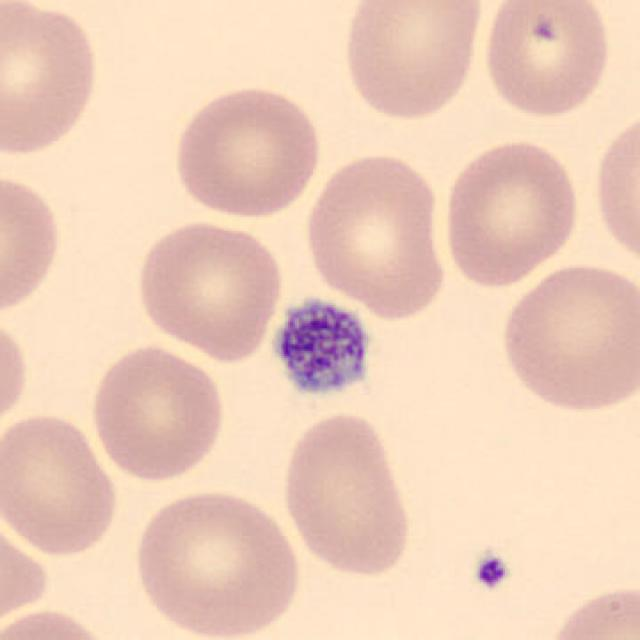Platelets: (265, 292, 377, 403), (469, 547, 514, 594)
RBC: (126, 485, 306, 640), (300, 148, 452, 321), (277, 407, 418, 582), (437, 134, 583, 291), (494, 259, 638, 418), (132, 215, 286, 362), (169, 81, 325, 222), (87, 340, 228, 485), (0, 409, 123, 559), (337, 0, 485, 123), (478, 0, 615, 122), (0, 0, 103, 160), (0, 168, 66, 322), (588, 104, 640, 273), (542, 578, 638, 640), (0, 604, 117, 640), (0, 310, 32, 439)
